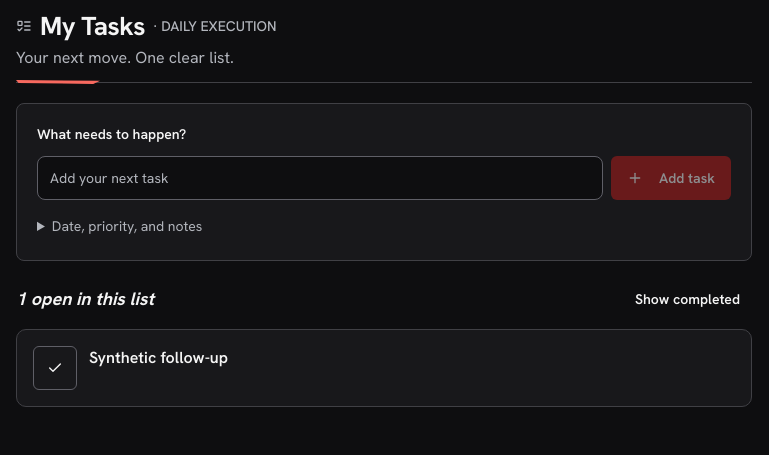
Scenario: My Tasks › does not hide a task when the server reports zero updated rows
Click the button named "Complete: Synthetic follow-up".
click(55, 368)  # box [33,346,77,390]
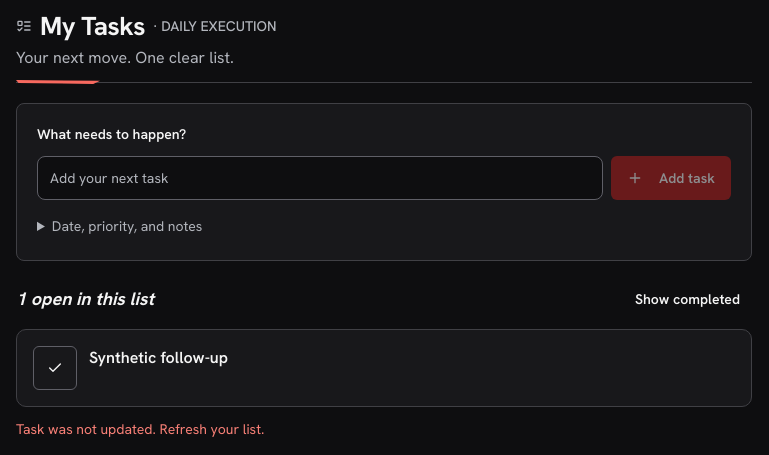
Check: the text "Synthetic follow-up" is shown, box [89,347,228,368]
Check: the message shows "not updated", box [16,420,264,438]
